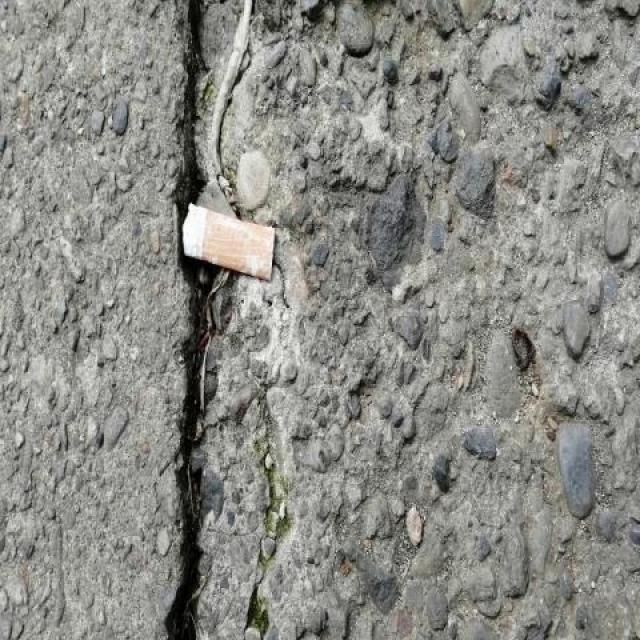non-organic waste: (172, 196, 281, 284)
